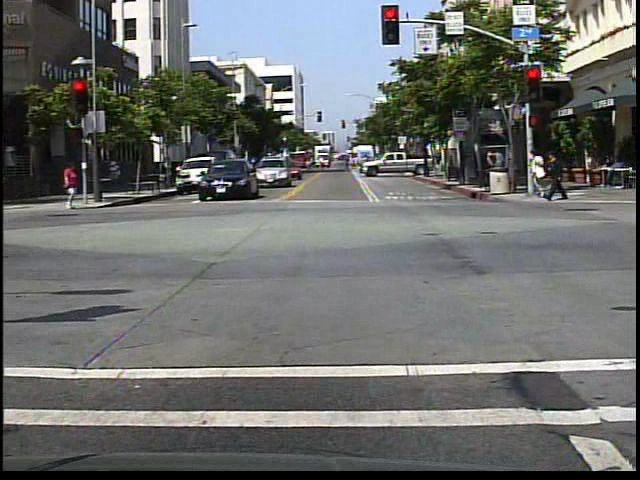person: (542, 147, 569, 205), (63, 160, 83, 212), (531, 145, 548, 201)
